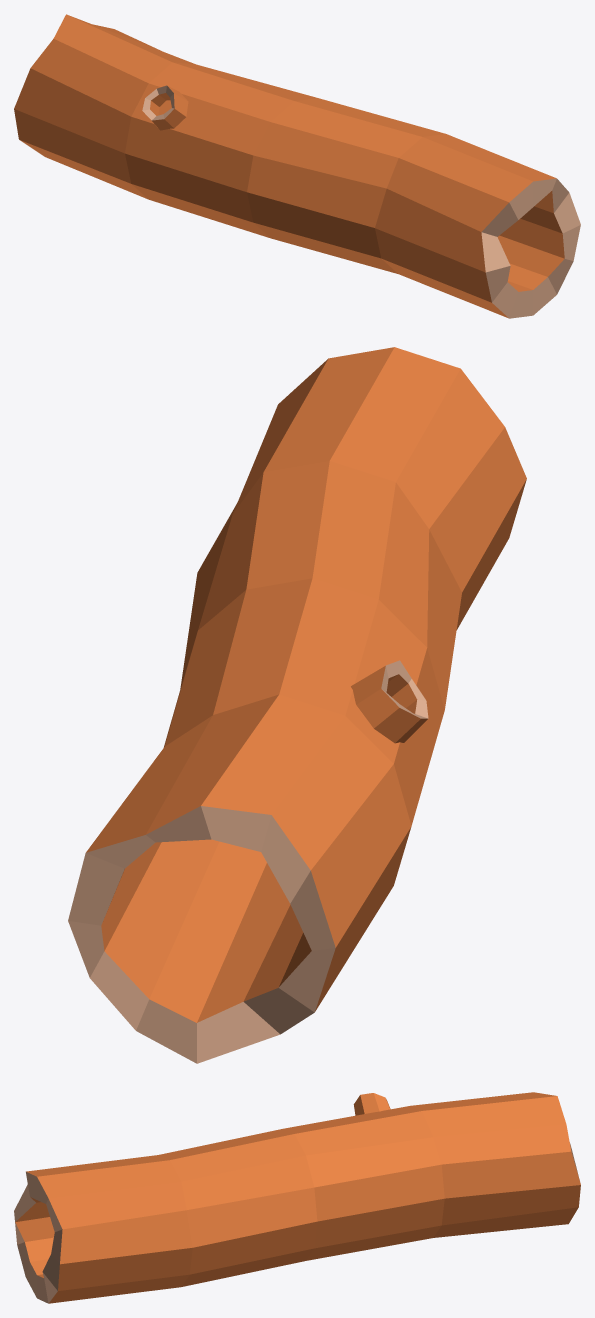
The model's file is Log.fbx.
3 views of the same model, one above another, from view 1: azimuth 30°, elevation 25°; view 2: azimuth 150°, elevation 25°; view 3: azimuth 270°, elevation 25° (orthographic). The views are drawn at different scales.
Parts seen in each view (by area): view 1: Circle.004; view 2: Circle.004; view 3: Circle.004.
Boxes of the visible parts, x1,y1,x2,y2 form: Circle.004: (14, 14, 580, 318); Circle.004: (68, 347, 526, 1063); Circle.004: (14, 1092, 580, 1303).
Size of the model in its own units: 361 by 163 by 643.
